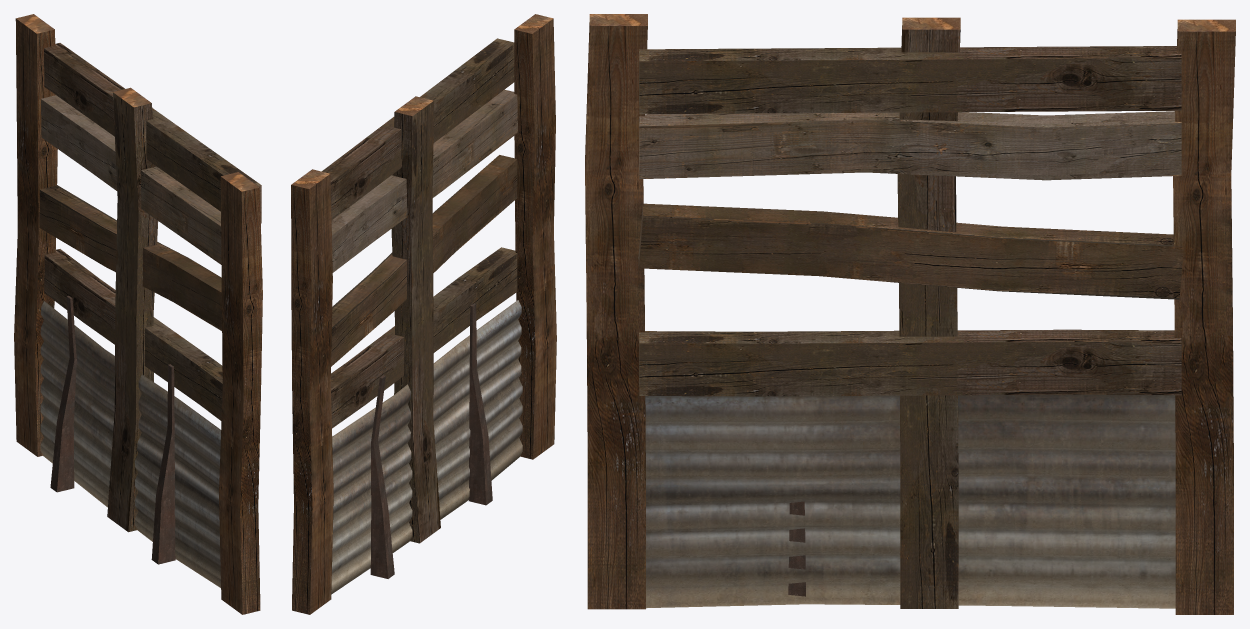
Rendered from trench-decor2.fbx.
3 renders of one model, left to right at view 1: azimuth 30°, elevation 25°; view 2: azimuth 150°, elevation 25°; view 3: azimuth 270°, elevation 25°, orthographic. The views are drawn at different scales.
Parts seen in each view (by area): view 1: Object003, Box083, Box089, Box004, Box090, Box087, Box088, Box086, Box084, Box092; view 2: Object003, Box004, Box083, Box089, Box087, Box090, Box086, Box088, Box084, Box092; view 3: Object003, Box090, Box086, Box087, Box088, Box083, Box004, Box089, Box084.
Boxes of the visible parts, x1=… form: Object003: x1=40, y1=301, x2=220, y2=587; Box083: x1=219, y1=172, x2=262, y2=614; Box089: x1=107, y1=87, x2=158, y2=532; Box004: x1=14, y1=14, x2=57, y2=456; Box090: x1=44, y1=43, x2=261, y2=223; Box087: x1=39, y1=185, x2=221, y2=330; Box088: x1=41, y1=95, x2=221, y2=264; Box086: x1=44, y1=249, x2=222, y2=420; Box084: x1=151, y1=364, x2=175, y2=564; Box092: x1=50, y1=296, x2=76, y2=492; Object003: x1=331, y1=300, x2=522, y2=594; Box004: x1=291, y1=169, x2=333, y2=614; Box083: x1=514, y1=14, x2=556, y2=459; Box089: x1=391, y1=96, x2=440, y2=543; Box087: x1=331, y1=155, x2=517, y2=366; Box090: x1=322, y1=38, x2=514, y2=219; Box086: x1=330, y1=247, x2=517, y2=428; Box088: x1=331, y1=89, x2=517, y2=272; Box084: x1=468, y1=303, x2=492, y2=505; Box092: x1=370, y1=375, x2=394, y2=578; Object003: x1=645, y1=394, x2=1175, y2=608; Box090: x1=639, y1=46, x2=1181, y2=114; Box086: x1=639, y1=329, x2=1181, y2=396; Box087: x1=638, y1=203, x2=1183, y2=299; Box088: x1=639, y1=111, x2=1181, y2=180; Box083: x1=585, y1=14, x2=647, y2=609; Box004: x1=1173, y1=19, x2=1235, y2=614; Box089: x1=897, y1=17, x2=960, y2=608; Box084: x1=788, y1=501, x2=805, y2=596.
Bounding box in the file's own units: 47.42 × 373 × 376.
